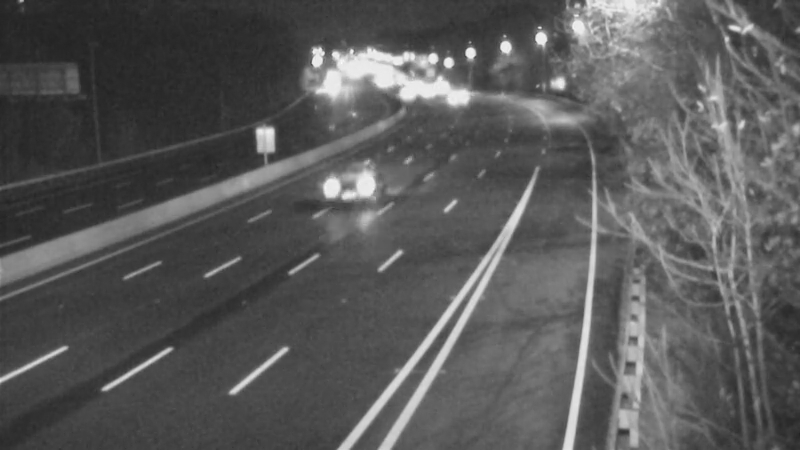vehicle: (320, 149, 400, 229), (381, 68, 431, 118), (429, 75, 479, 125)
